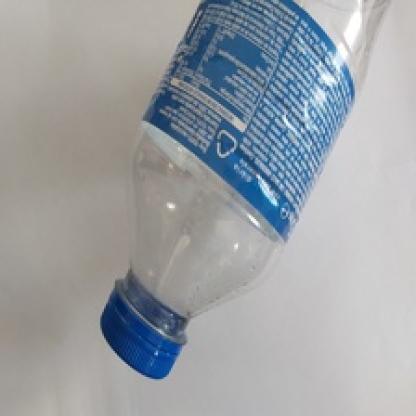plastic_bottles: (93, 2, 385, 374)
